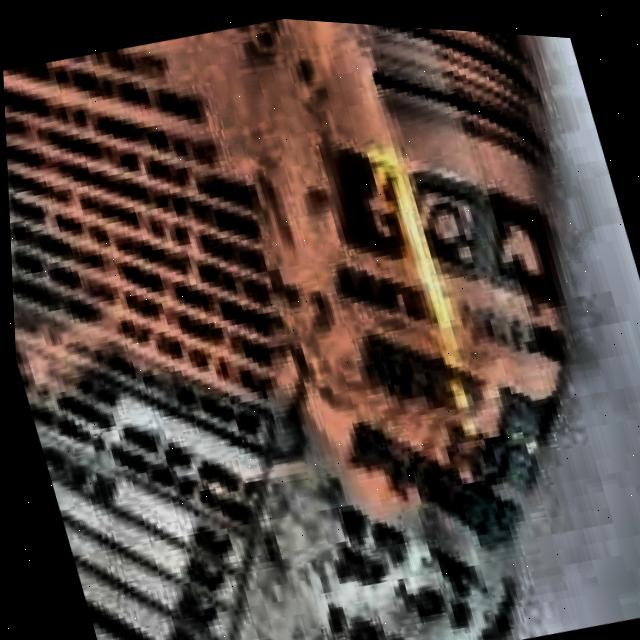metal: (2, 15, 568, 640)
